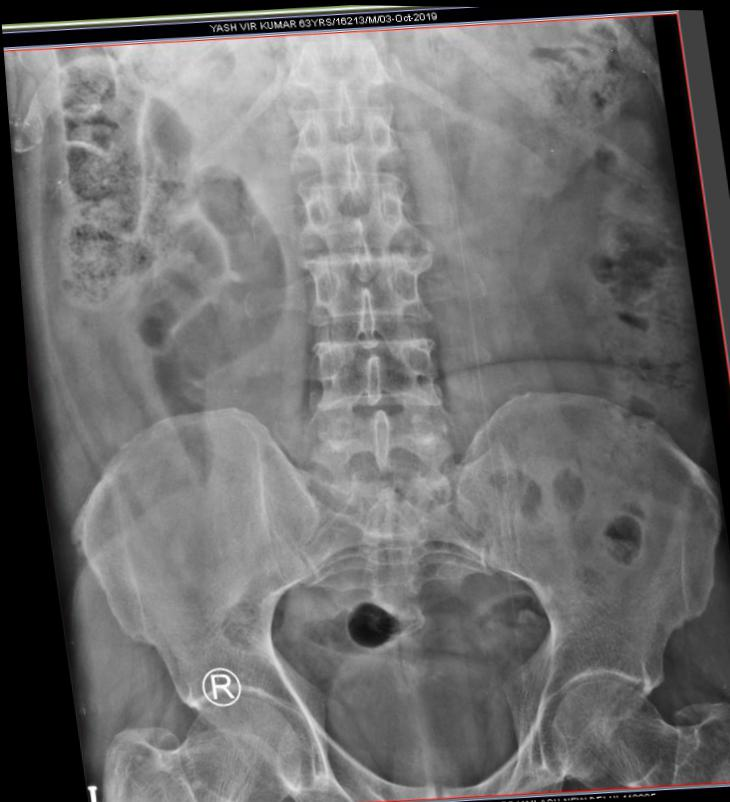bladder: (286, 637, 524, 795)
vertebrae: (276, 92, 403, 178)
